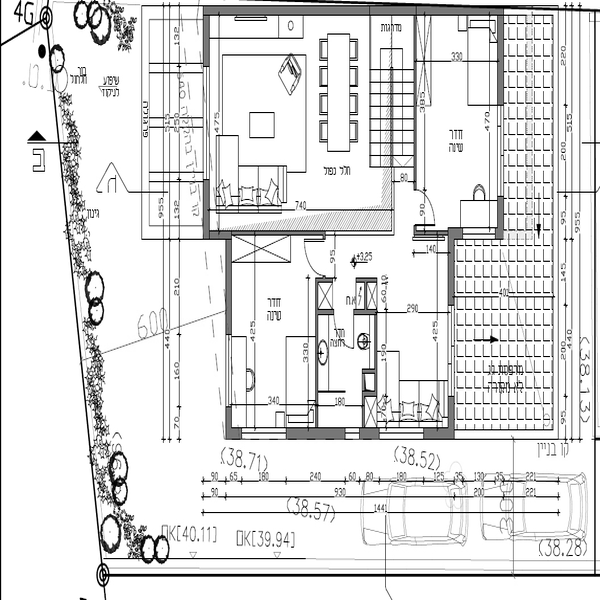door: (405, 186, 438, 230), (303, 240, 337, 279)
room: (198, 1, 427, 243), (219, 237, 458, 450), (417, 1, 508, 245)
wall: (201, 4, 504, 18), (307, 280, 327, 427), (409, 23, 424, 185), (369, 288, 382, 424), (496, 8, 511, 105), (210, 229, 329, 241), (446, 226, 463, 308), (284, 423, 346, 445), (220, 234, 233, 336), (197, 14, 216, 72), (493, 194, 507, 243), (201, 179, 211, 245), (426, 424, 452, 440)
window: (197, 72, 216, 175), (439, 313, 456, 396), (225, 343, 242, 407), (377, 424, 421, 444), (242, 424, 287, 438)
